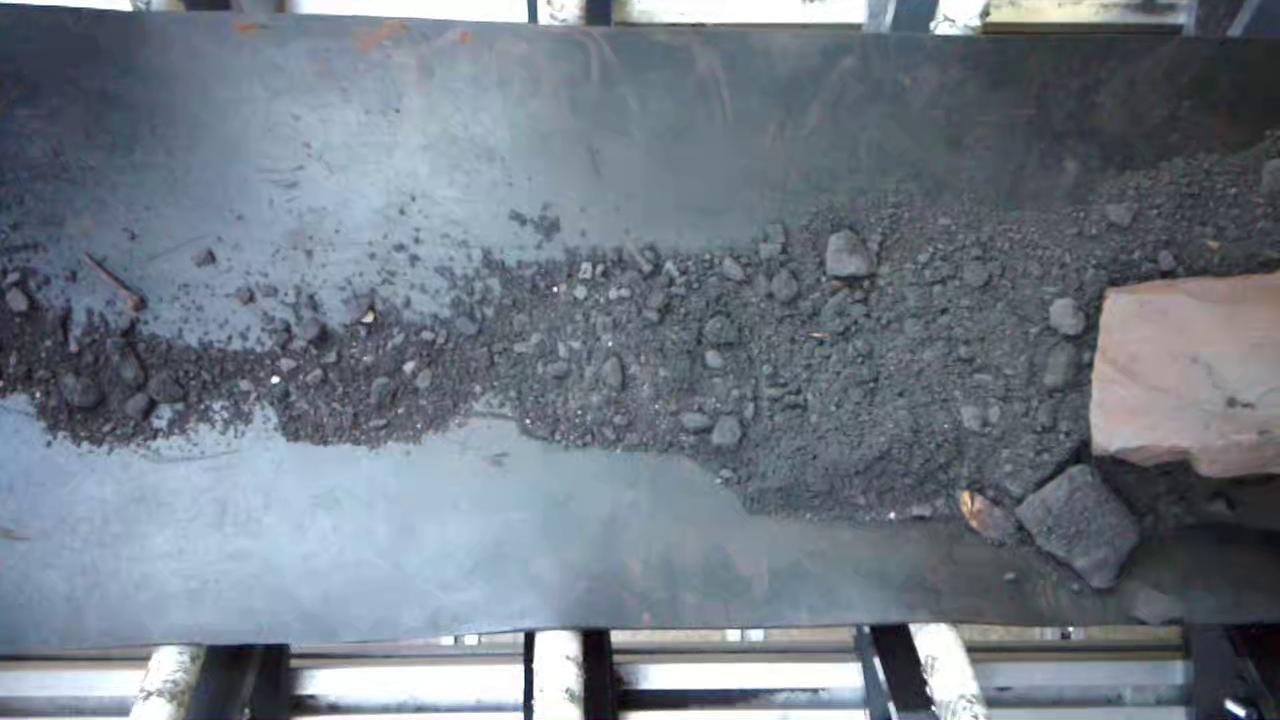conveyor: (6, 43, 1280, 623)
